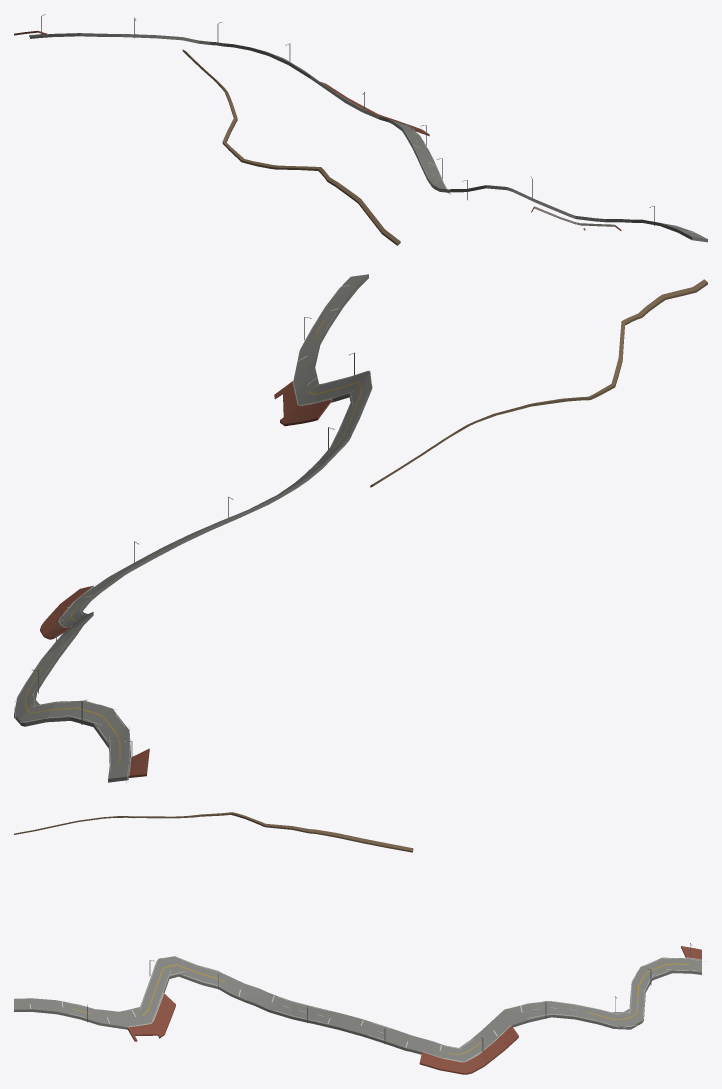
File: 17-109462-59509.efeae6b5.glb
The picture shows the model from 3 angles, top to bottom: view 1: azimuth 30°, elevation 25°; view 2: azimuth 150°, elevation 25°; view 3: azimuth 270°, elevation 25°; orthographic projection. The views are drawn at different scales.
Bounding box in the file's own units: 135 × 67.89 × 294.
